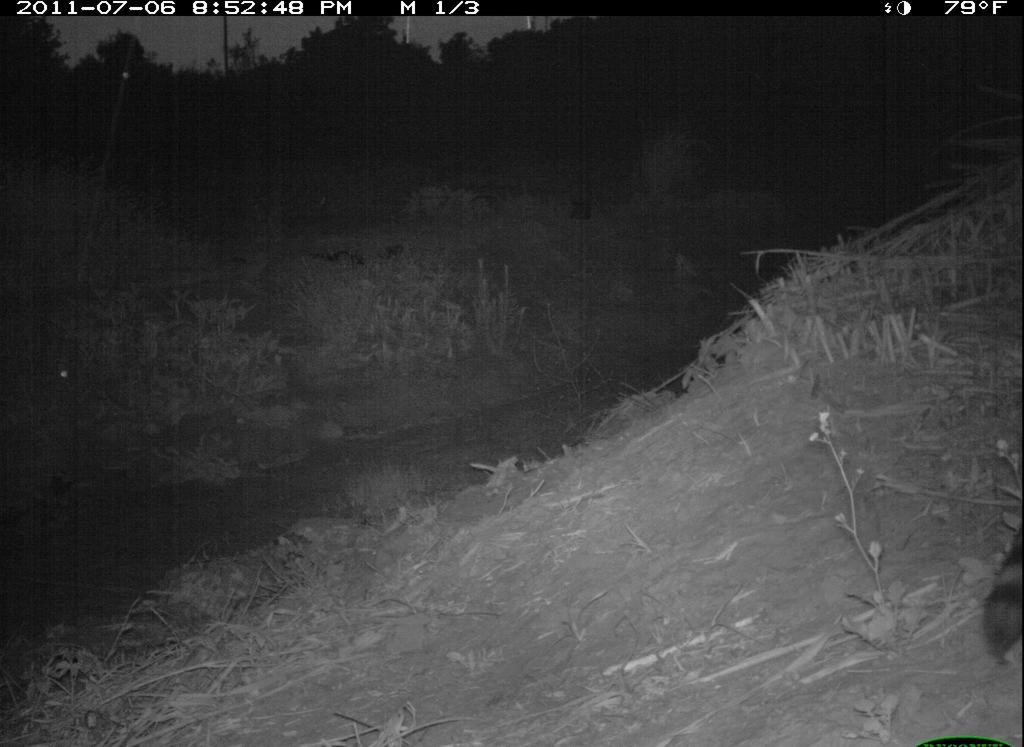raccoon: (981, 495, 1023, 688)
